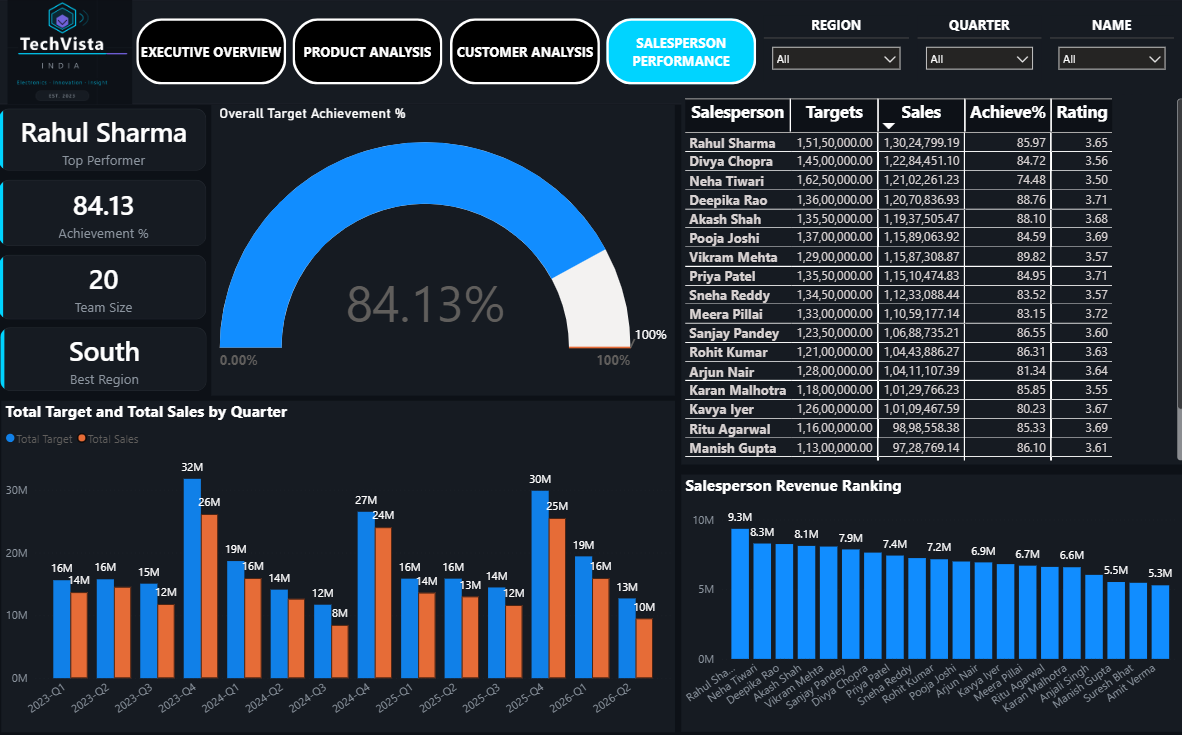

The page's visual inventory and layout, read from the dashboard file:
{"tool":"powerbi","page":{"name":"Salespersons","canvas":[1440,900],"ordinal":3},"visuals":[{"type":"cardVisual","fields":{"Data":["Count(sales_targets.salesperson_name)"]},"box":[0,306.1,260.9,89],"z":0},{"type":"cardVisual","fields":{"Data":["sales_targets.Top Performer"]},"box":[0,129.7,260.9,86],"z":1000},{"type":"cardVisual","fields":{"Data":["sales_targets.Best Region"]},"box":[1.5,393.6,259.4,87.5],"z":2000},{"type":"cardVisual","fields":{"Data":["sales_targets.Achievement % by SP"]},"box":[0,215.7,260.9,90.5],"z":3000},{"type":"clusteredColumnChart","title":"Salesperson Revenue Ranking","fields":{"Category":["sales_targets.salesperson_name"],"Y":["fact_sales.Total Sales by SP"]},"box":[827.9,576.1,604.7,310.7],"z":4000},{"type":"shape","box":[0,3,1440.2,126.7],"z":5000},{"type":"image","box":[1.5,0,177.9,129.7],"z":6000},{"type":"actionButton","box":[170.2,24.9,181,79.9],"z":7000},{"type":"actionButton","box":[359.2,24.9,181,79.9],"z":8000},{"type":"actionButton","box":[548.2,24.9,181,79.9],"z":9000},{"type":"actionButton","box":[737.2,24.9,181,79.9],"z":10000},{"type":"slicer","title":"REGION","fields":{"Values":["sales_targets.region"]},"box":[927.5,22.6,174.9,79.9],"z":11000},{"type":"slicer","title":"QUARTER","fields":{"Values":["sales_targets.quarter"]},"box":[1112.9,22.6,149.3,79.9],"z":12000},{"type":"slicer","title":"NAME","fields":{"Values":["sales_targets.salesperson_name"]},"box":[1272.8,22.6,149.3,79.9],"z":13000},{"type":"pivotTable","fields":{"Values":["sales_targets.Total Target by SP","fact_sales.Total Sales by SP","sales_targets.Achievement %","fact_sales.Avg Rating by SP"],"Rows":["sales_targets.salesperson_name"]},"box":[827.9,117.6,612.3,446.4],"z":14000},{"type":"clusteredColumnChart","title":"Total Target and Total Sales by Quarter","fields":{"Y":["sales_targets.Total Target","fact_sales.Total Sales"],"Category":["sales_targets.quarter"]},"box":[7.5,487.1,812.8,399.6],"z":15000},{"type":"gauge","title":"Overall Target Achievement %","fields":{"MinValue":["sales_targets.Gauge Min"],"MaxValue":["sales_targets.Gauge Max"],"TargetValue":["sales_targets.Gauge Target"],"Y":["sales_targets.Gauge Achievement %"]},"box":[260.9,129.7,559.5,351.4],"z":16000}]}

Visuals, with their boxes in screenshot pixels (x1, y1, x2, y2), scaled from the page's 1440x900 canvas onto the 1182x735 screenshot:
cardVisual - Count(sales_targets.salesperson_name): 0/250/214/323
cardVisual - sales_targets.Top Performer: 0/106/214/176
cardVisual - sales_targets.Best Region: 1/321/214/393
cardVisual - sales_targets.Achievement % by SP: 0/176/214/250
"Salesperson Revenue Ranking" clusteredColumnChart: 680/470/1176/724
shape: 0/2/1181/106
image: 1/0/147/106
actionButton: 140/20/288/86
actionButton: 295/20/443/86
actionButton: 450/20/599/86
actionButton: 605/20/754/86
"REGION" slicer: 761/18/905/84
"QUARTER" slicer: 914/18/1036/84
"NAME" slicer: 1045/18/1167/84
pivotTable - sales_targets.Total Target by SP x fact_sales.Total Sales by SP: 680/96/1181/461
"Total Target and Total Sales by Quarter" clusteredColumnChart: 6/398/673/724
"Overall Target Achievement %" gauge: 214/106/673/393
